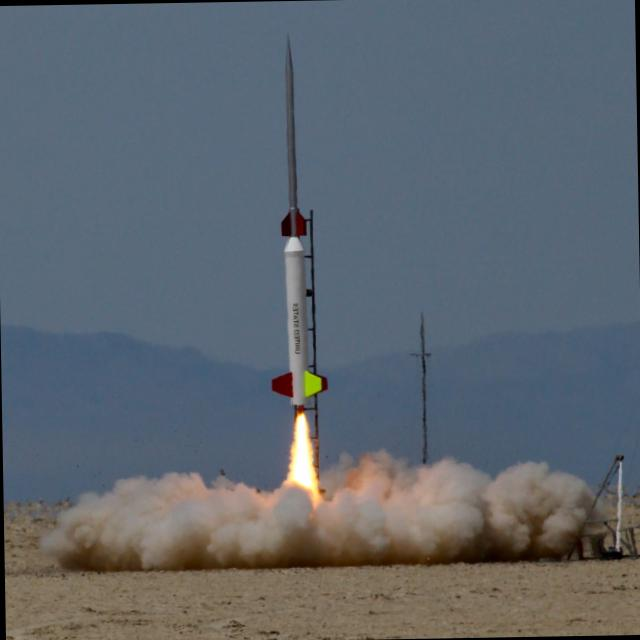rocket: (265, 33, 336, 512)
